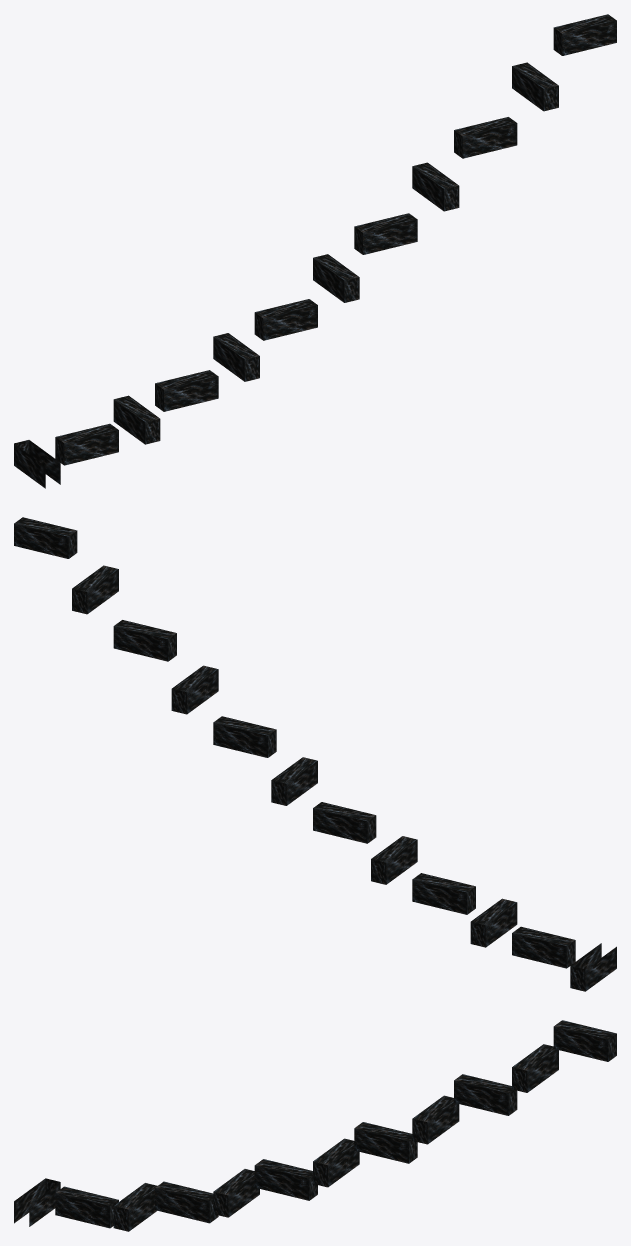
Rendered from citadel_sanctum_1.obj.
The picture shows the model from 3 angles, top to bottom: view 1: azimuth 30°, elevation 25°; view 2: azimuth 150°, elevation 25°; view 3: azimuth 330°, elevation 25°; orthographic projection.
Visible parts, largest first — view 1: citadel_sanctum_1; view 2: citadel_sanctum_1; view 3: citadel_sanctum_1.
Boxes of the visible parts, <box> form: citadel_sanctum_1: <box>14,14,616,488</box>; citadel_sanctum_1: <box>14,517,616,991</box>; citadel_sanctum_1: <box>14,1020,616,1231</box>.
Size of the model in its own units: 7.68 by 4 by 0.72.
1 material, 1 textured.
